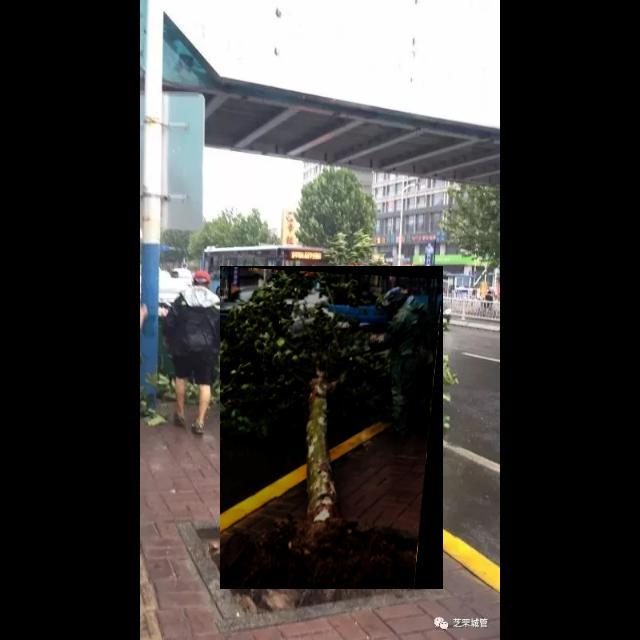fallen_tree: (220, 266, 444, 590)
